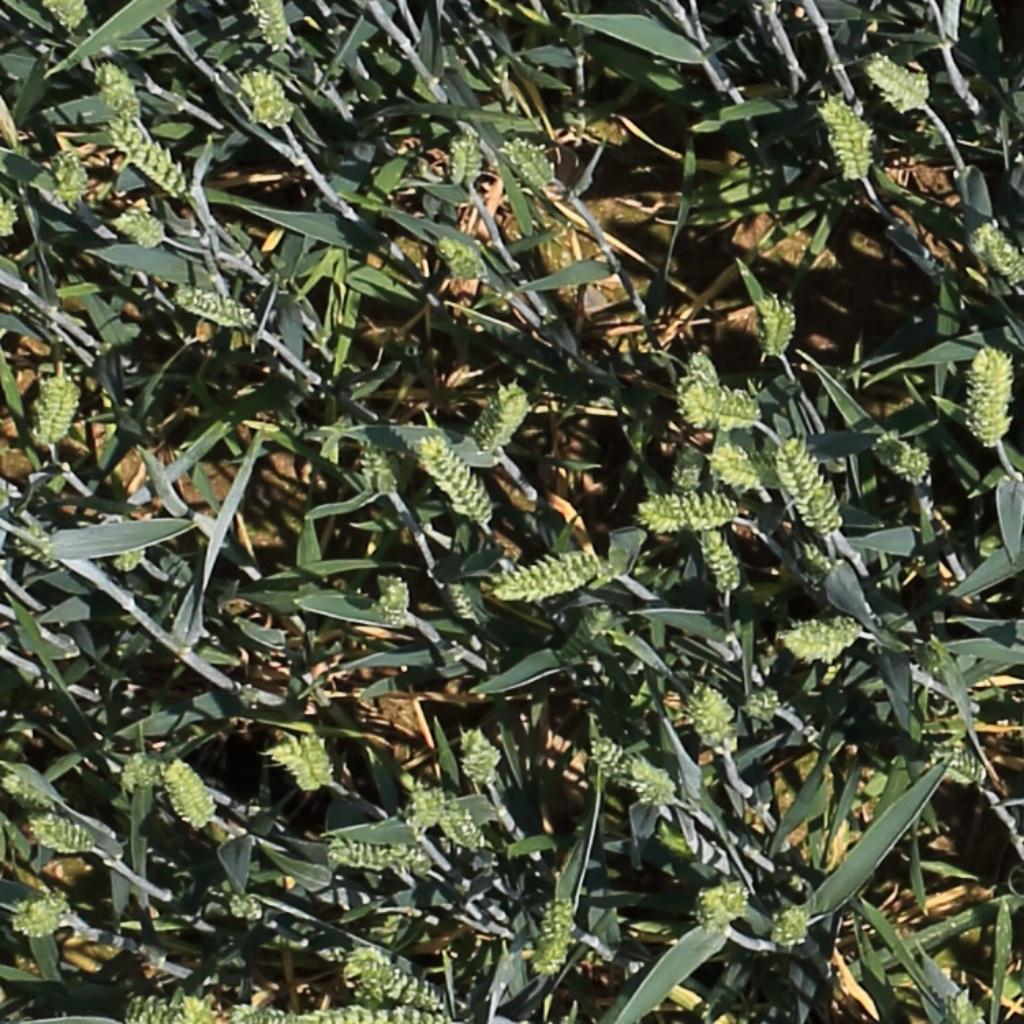0-0: (775, 436, 846, 540), (419, 435, 495, 524), (109, 114, 191, 195), (628, 484, 744, 540), (768, 609, 867, 673), (962, 339, 1014, 450), (261, 730, 347, 795), (352, 950, 442, 1011), (0, 888, 86, 950), (676, 382, 771, 434), (491, 555, 602, 599), (163, 756, 217, 836), (473, 378, 528, 456), (598, 744, 677, 798), (823, 95, 873, 178), (703, 438, 771, 499), (918, 738, 994, 790), (688, 684, 740, 759), (535, 891, 577, 983), (91, 58, 144, 125), (974, 217, 1024, 286), (701, 522, 744, 600), (105, 987, 194, 1024), (399, 776, 455, 834), (172, 285, 255, 324), (675, 342, 723, 406), (869, 55, 931, 103), (238, 69, 292, 124), (435, 232, 494, 282), (876, 434, 933, 483), (42, 367, 75, 449), (356, 430, 394, 501), (505, 135, 558, 185), (699, 884, 749, 937), (436, 808, 488, 858), (461, 724, 499, 791), (28, 817, 95, 854), (761, 286, 793, 363), (329, 849, 428, 872), (443, 574, 484, 629), (53, 141, 87, 207), (0, 775, 55, 812), (738, 681, 785, 724), (775, 901, 811, 953), (379, 570, 409, 632), (258, 0, 292, 54), (451, 124, 479, 189), (226, 998, 292, 1024), (118, 748, 150, 801), (114, 211, 163, 245), (45, 0, 86, 35), (180, 988, 217, 1024), (950, 981, 978, 1024), (0, 196, 13, 241)
